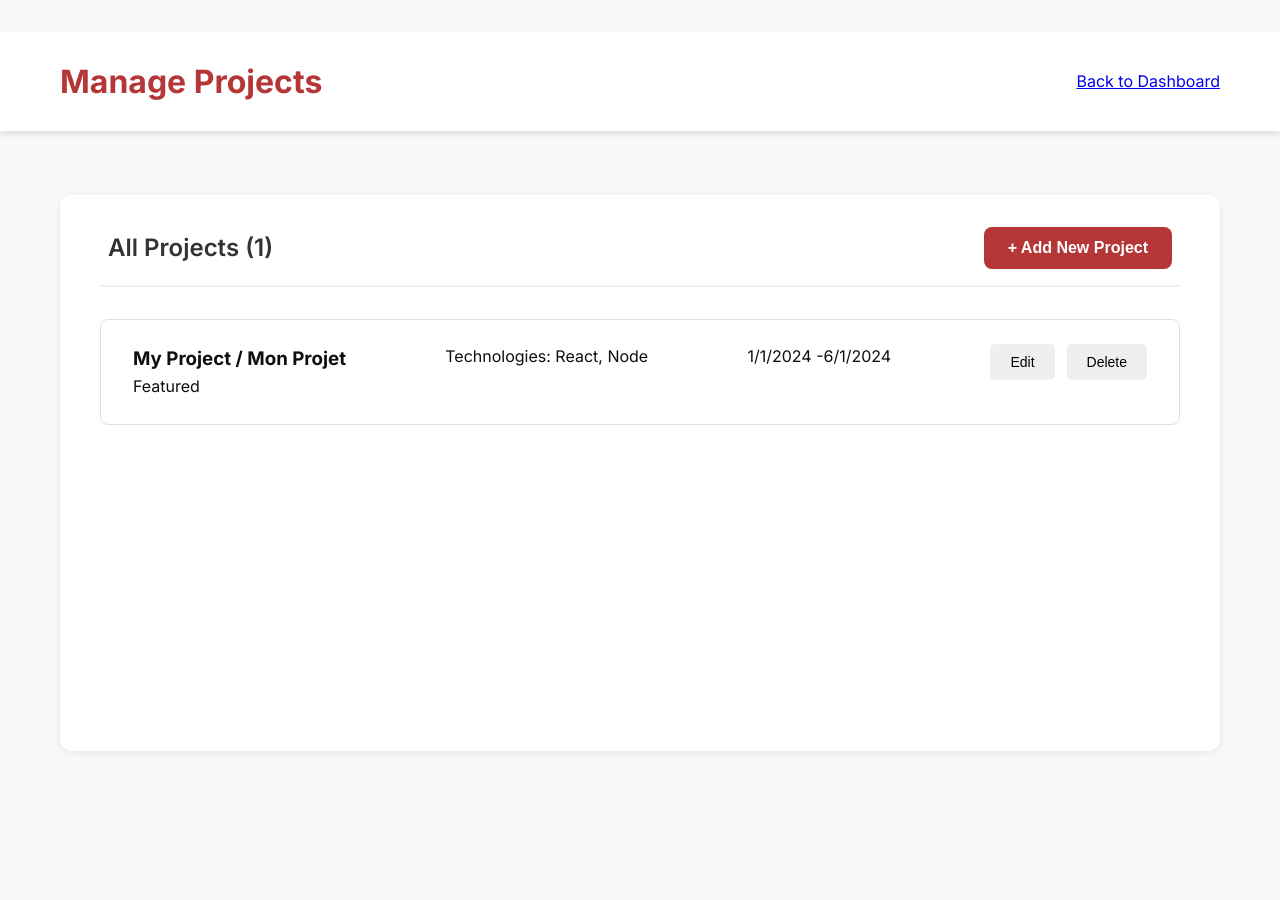
Scenario: AdminProjects › handles delete error
Click the button "Delete" at (1107, 362), box [1066,344,1147,380]
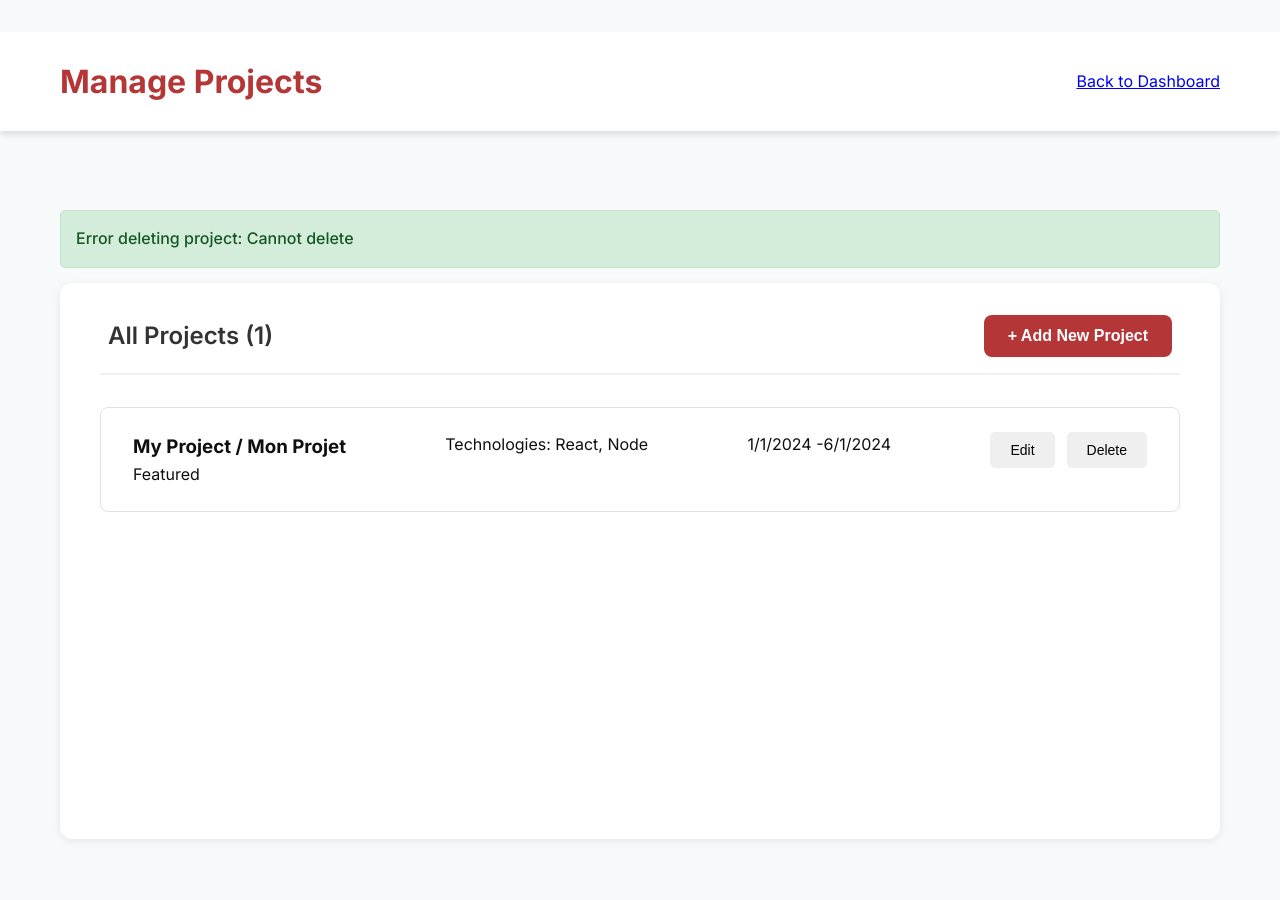
Result: the text "Error deleting project: Cannot delete" is shown at [60,210,1220,268]
